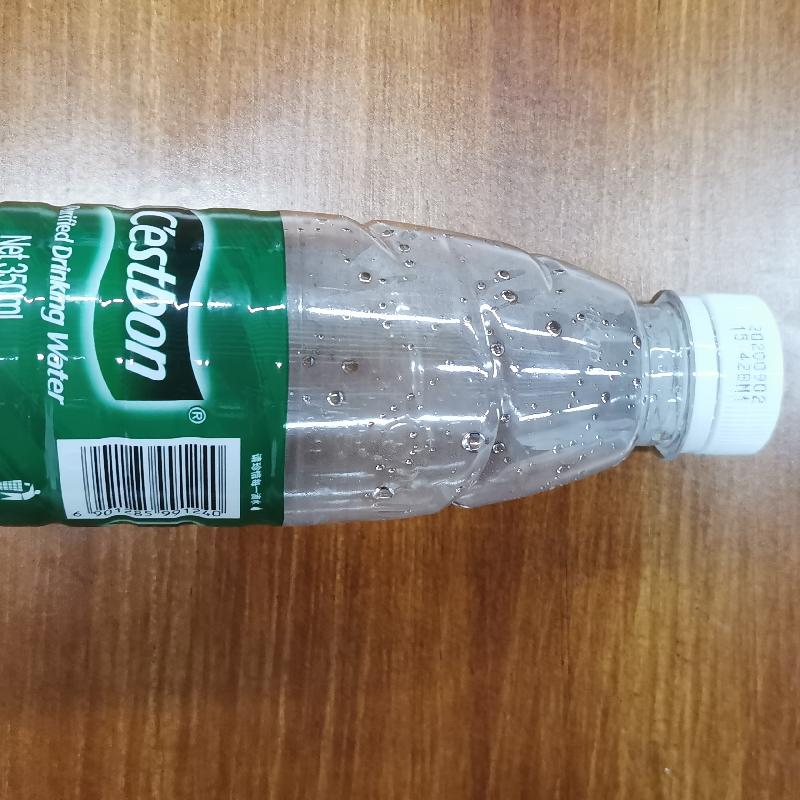bottles: (3, 195, 788, 532)
